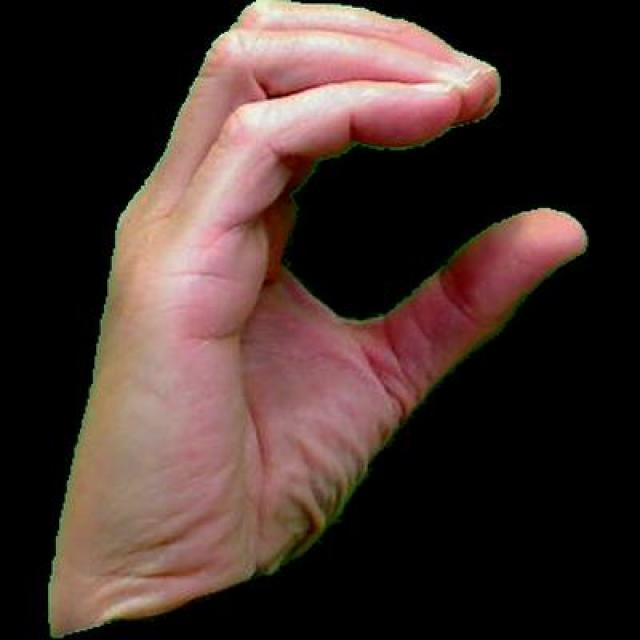c: (22, 0, 589, 637)
